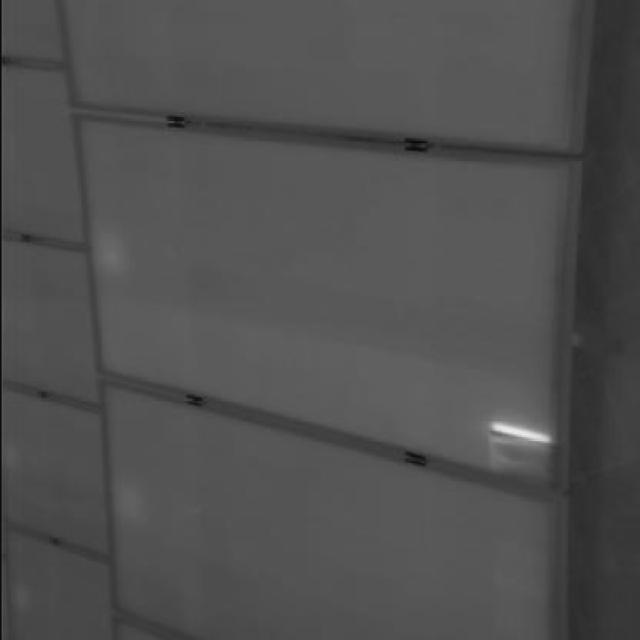hotspot: (482, 423, 555, 479)
